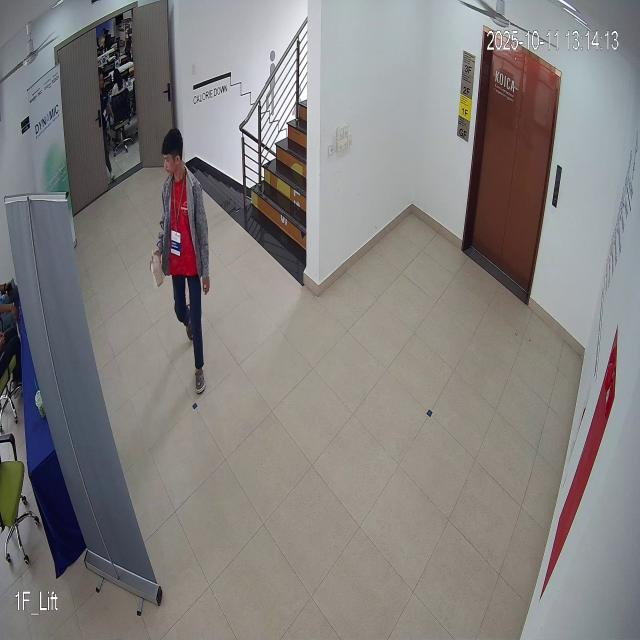face: (158, 123, 186, 184)
